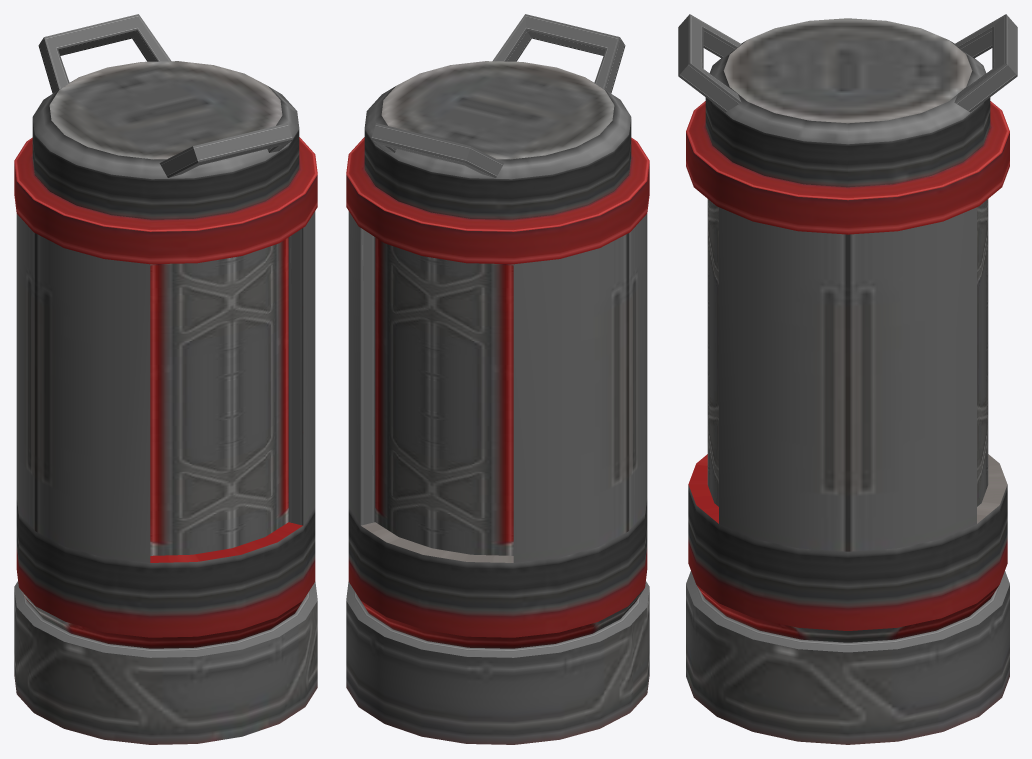
The model's file is sf_barrel.glb.
3 renders of one model, left to right at view 1: azimuth 30°, elevation 25°; view 2: azimuth 150°, elevation 25°; view 3: azimuth 270°, elevation 25°, orthographic. The views are drawn at different scales.
Parts seen in each view (by area): view 1: Prop_Barrel_Large; view 2: Prop_Barrel_Large; view 3: Prop_Barrel_Large.
Part boxes in pixels (x1,y1,x2,y2): Prop_Barrel_Large: (14, 14, 317, 744); Prop_Barrel_Large: (346, 14, 649, 744); Prop_Barrel_Large: (678, 14, 1017, 744).
Bounding box in the file's own units: 0.5078 × 1.1 × 0.532.
2 materials, 2 textured.
